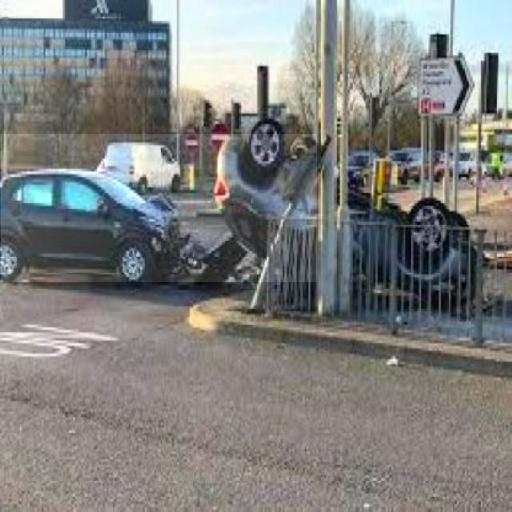小汽车撞小汽车: (1, 134, 317, 282)
